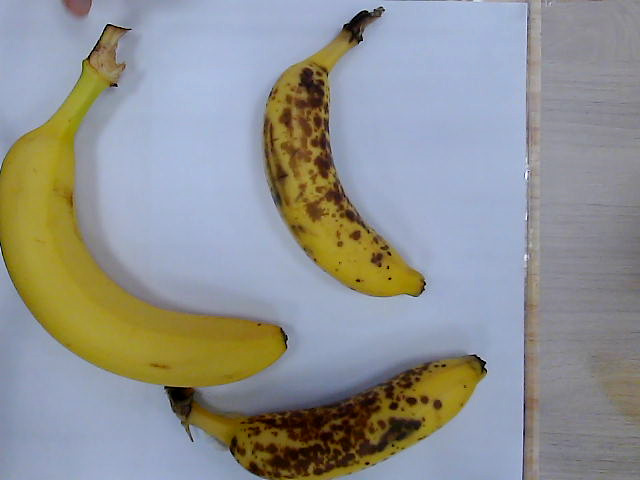fresh_banana: (1, 29, 291, 388)
rotten_banana: (264, 7, 427, 299), (168, 354, 487, 480)
